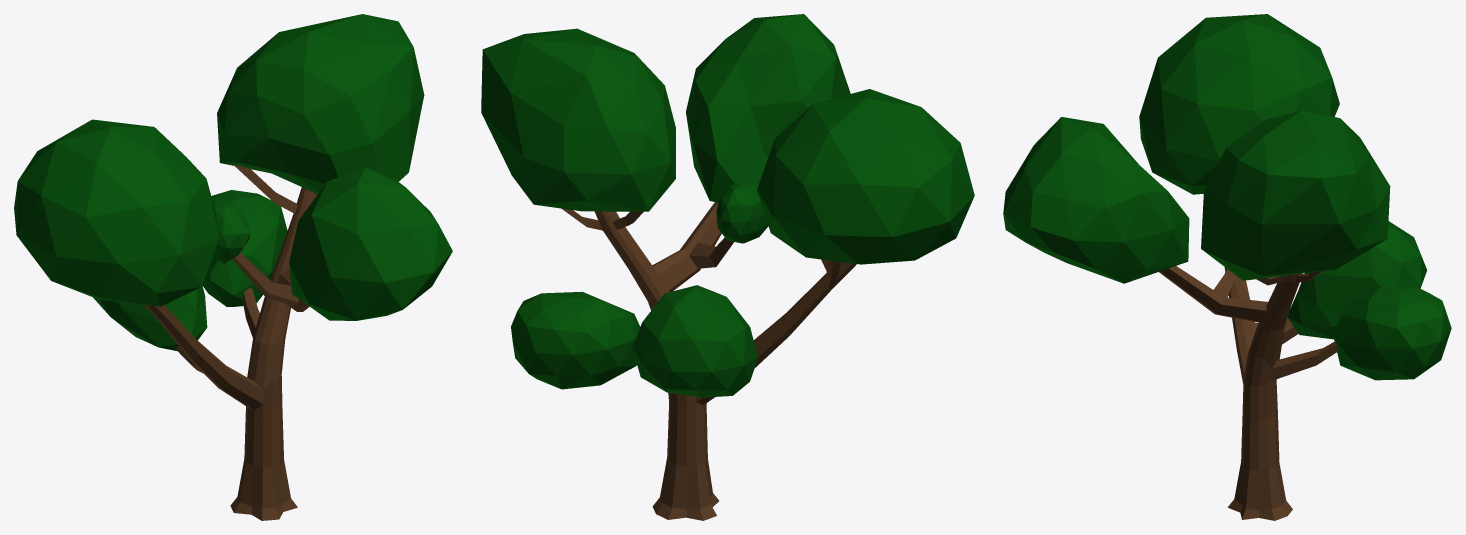
3 renders of one model, left to right at view 1: azimuth 30°, elevation 25°; view 2: azimuth 150°, elevation 25°; view 3: azimuth 270°, elevation 25°, orthographic. The views are drawn at different scales.
Visible parts, largest first — view 1: Icosphere.003, Cylinder.021; view 2: Icosphere.003, Cylinder.021; view 3: Icosphere.003, Cylinder.021.
Boxes of the visible parts, bbox=[...] form: Icosphere.003: bbox=[14, 14, 452, 351]; Cylinder.021: bbox=[144, 164, 317, 520]; Icosphere.003: bbox=[481, 14, 974, 397]; Cylinder.021: bbox=[562, 202, 856, 520]; Icosphere.003: bbox=[1003, 14, 1451, 380]; Cylinder.021: bbox=[1159, 266, 1337, 520].
Size of the model in its own units: 8.54 by 8.71 by 8.26.
